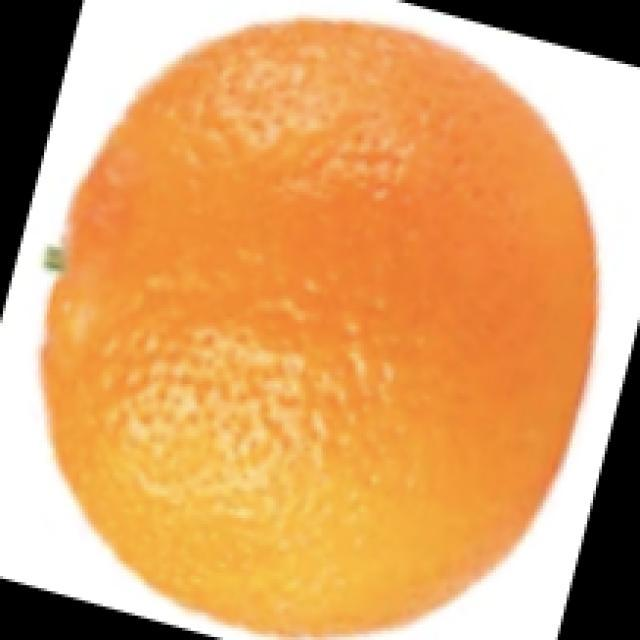Orange: (40, 16, 599, 638)
